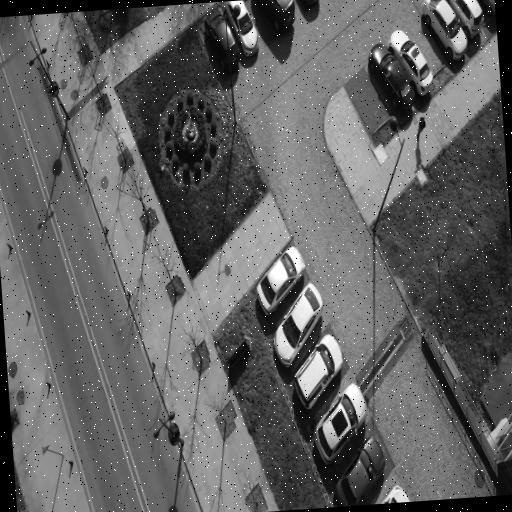car: (313, 384, 365, 463), (274, 283, 322, 366), (294, 335, 342, 409), (334, 436, 384, 506), (256, 247, 303, 314), (368, 44, 414, 109), (387, 30, 432, 95), (422, 0, 466, 60), (204, 7, 238, 68), (223, 0, 257, 56), (445, 0, 482, 38), (257, 0, 294, 31), (382, 486, 408, 503), (481, 0, 495, 16), (302, 0, 317, 5)
person: (416, 117, 424, 140)
